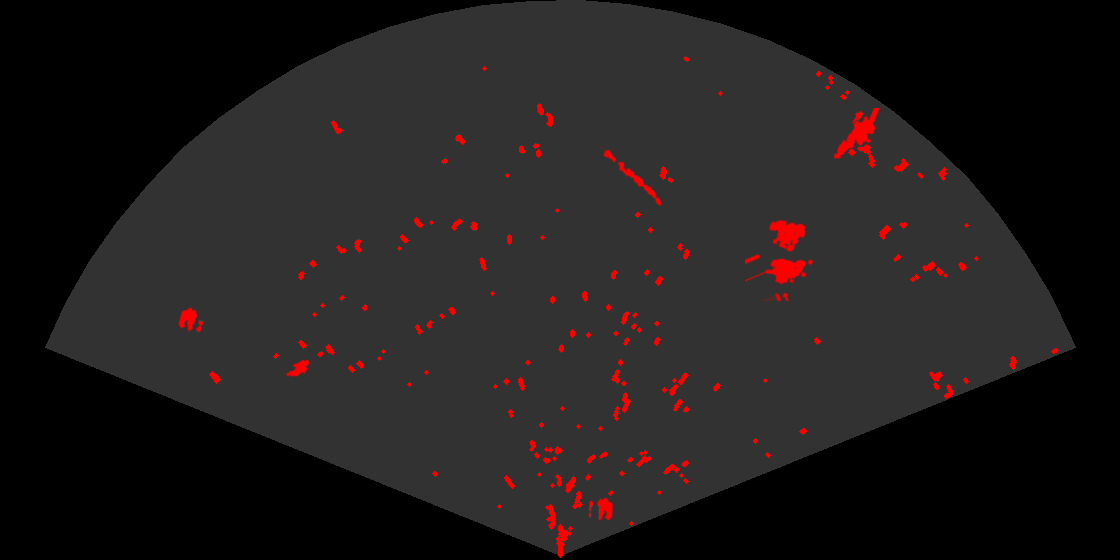AUV: (285, 358, 311, 379)
ball: (177, 306, 205, 334), (587, 496, 615, 522)
cage: (745, 218, 815, 301)
chain: (597, 142, 663, 207)
frogman: (832, 108, 882, 161)
